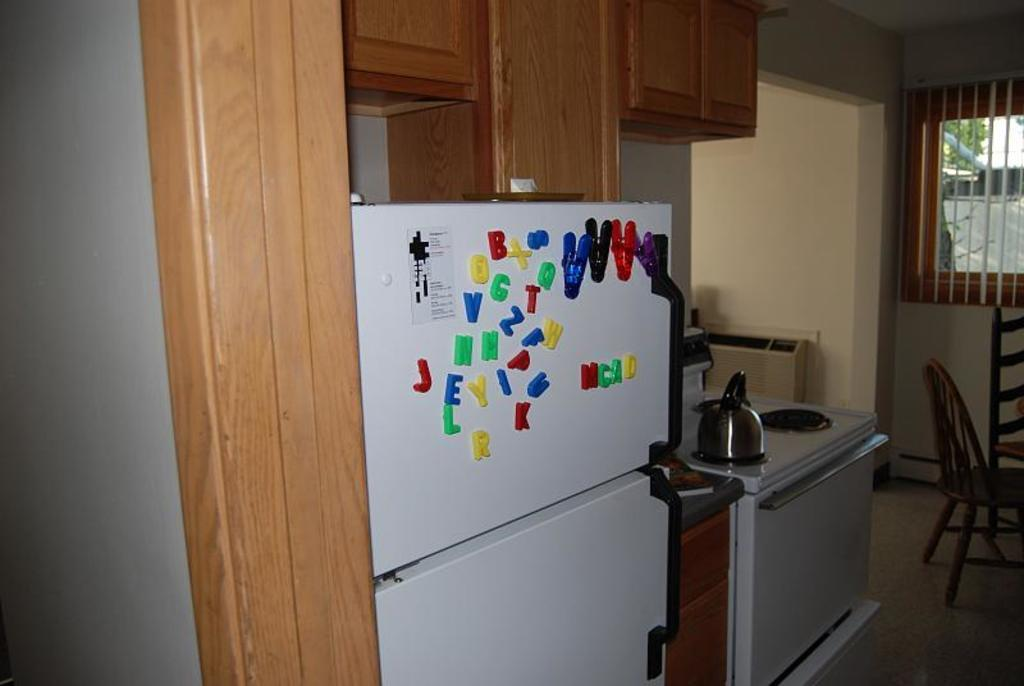cabinet_door: (484, 17, 612, 193), (347, 5, 476, 80), (621, 20, 697, 112), (694, 35, 758, 118), (688, 592, 734, 686), (684, 540, 737, 592)
handle: (646, 249, 694, 446), (766, 434, 886, 510), (649, 474, 687, 648)
